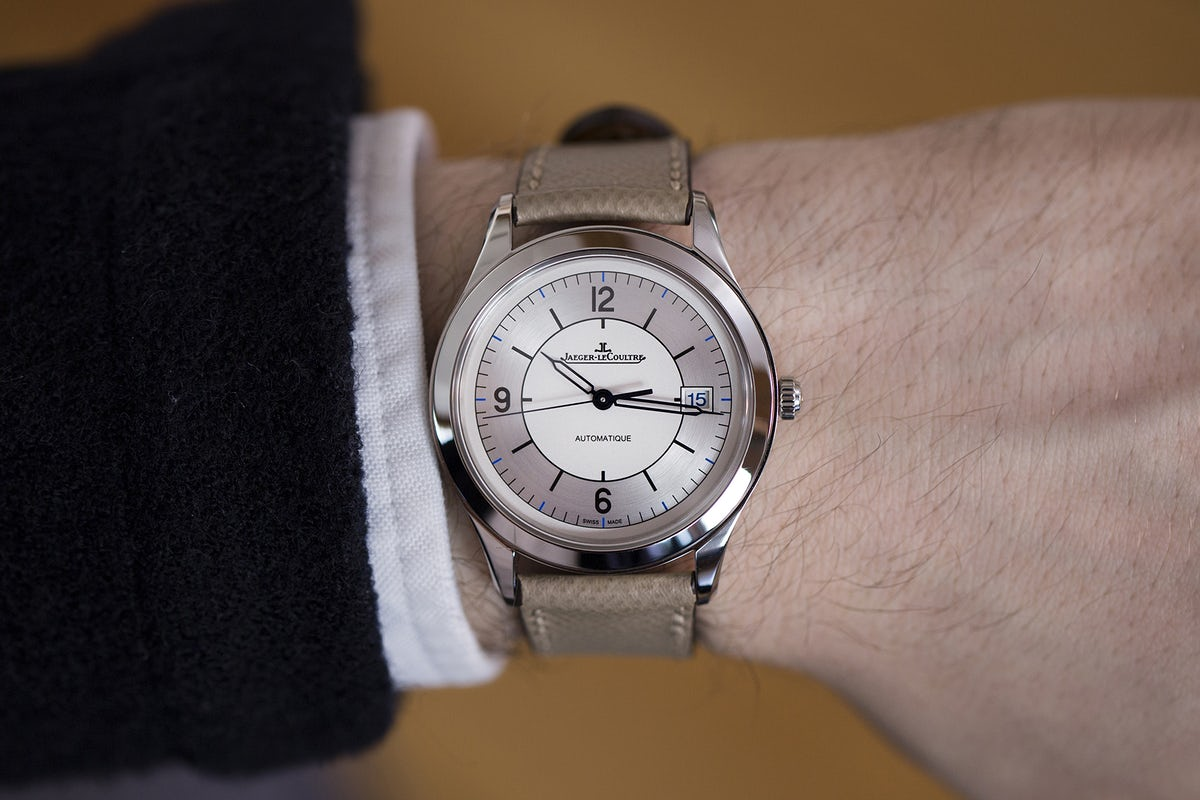clock: (473, 269, 737, 539)
